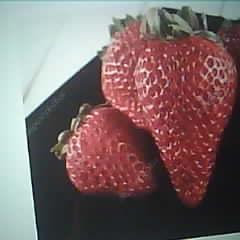straw-ripe: (135, 36, 237, 205), (65, 106, 158, 196)
